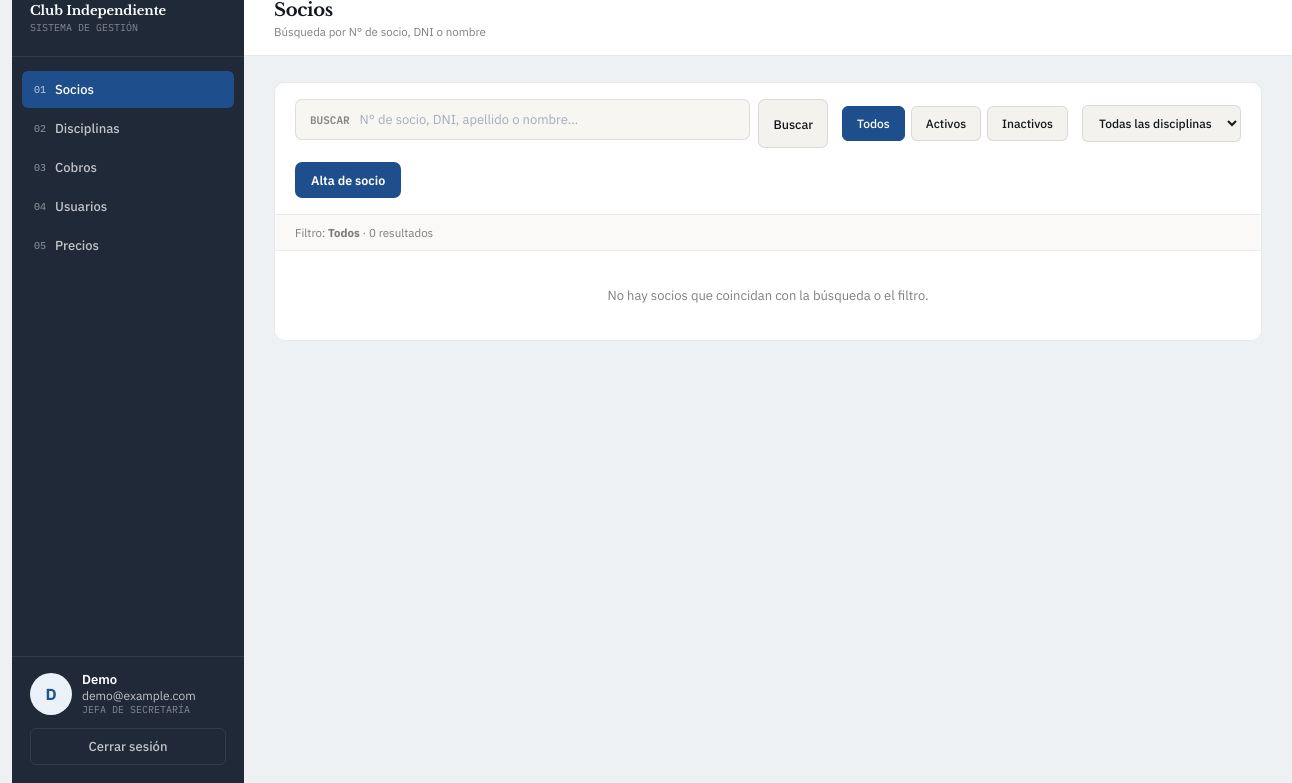
Test: URL routing › moves the URL when a sidebar link is clicked
The image size is (1292, 783).
Click the link "04 Usuarios". click: point(71, 206)
box: [34,198,107,215]
(page scrolled)
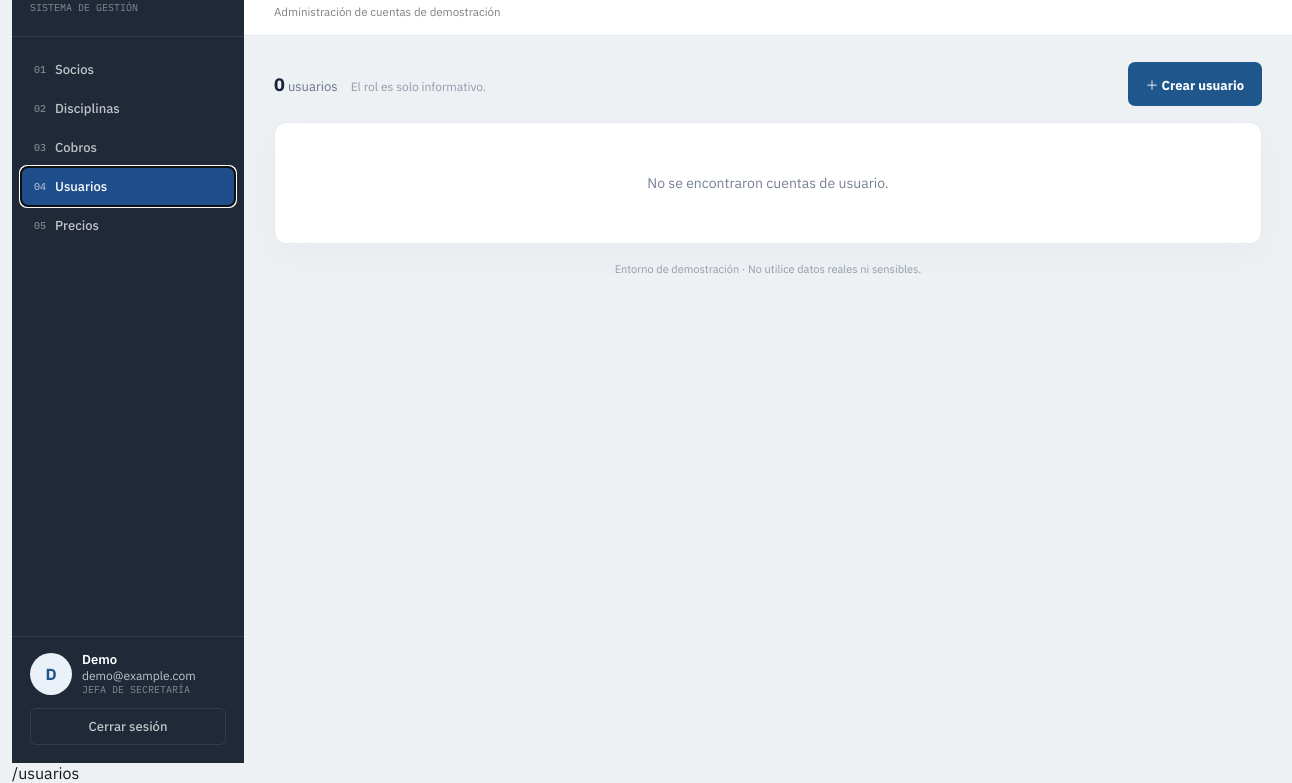
Expected: the text named "Ruta actual" reads "/usuarios", [12,763,79,782]
